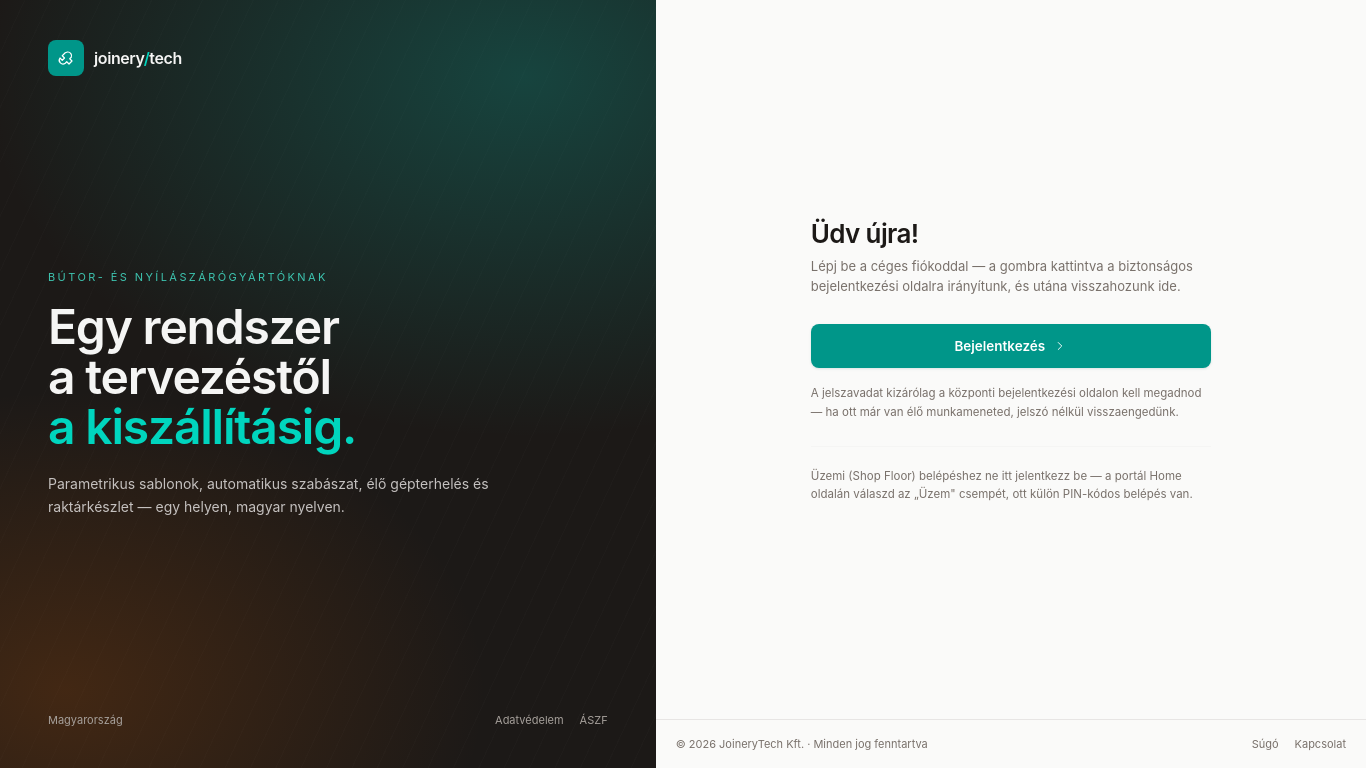
Test case: LoginPage › kattintásra egyszer indítja a redirectet és busy állapotot mutat
The width and height of the screenshot is (1366, 768).
Click the button "Bejelentkezés": (1011, 346) x1=811 y1=324 x2=1211 y2=368
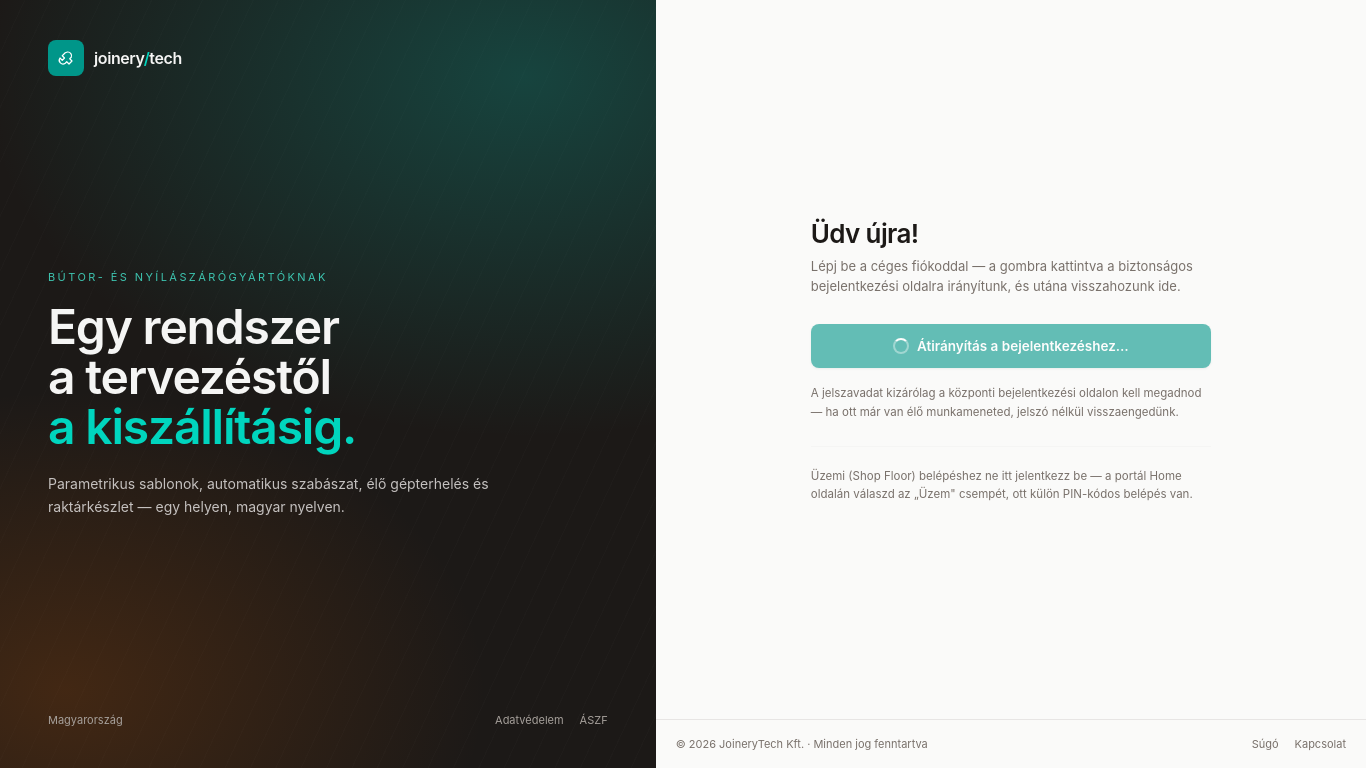
Check: the button "Átirányítás a bejelentkezéshez…" is shown, box x1=811 y1=324 x2=1211 y2=368
